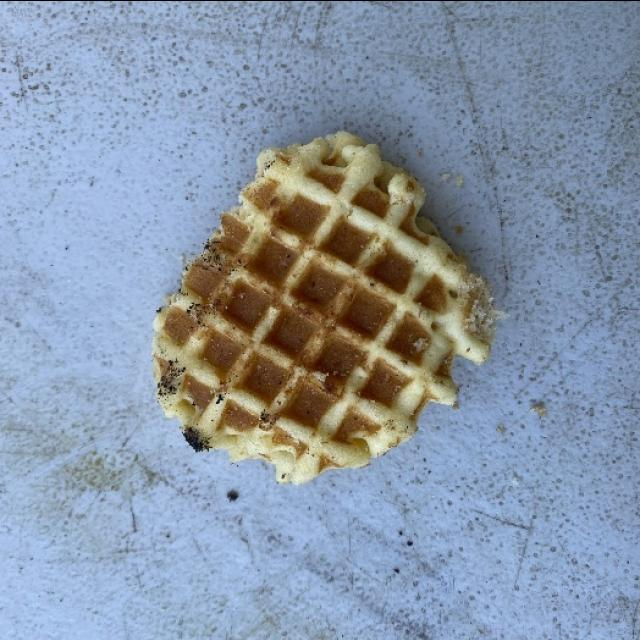organik: (150, 124, 504, 494)
